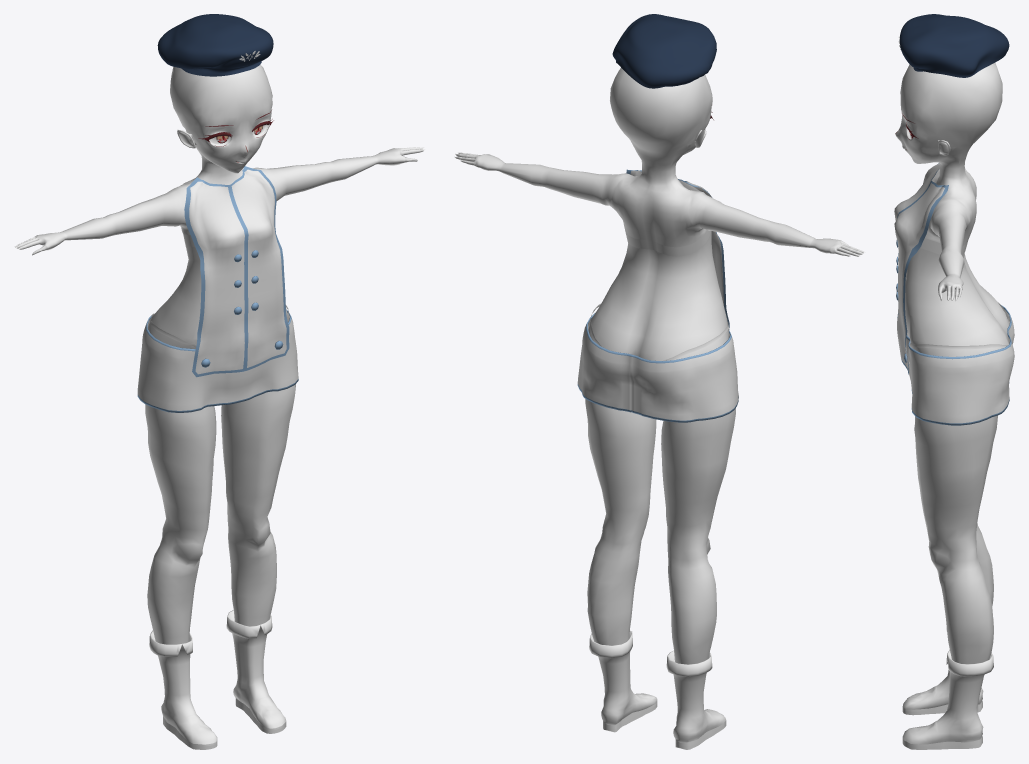
File: Kuro Figure Mixamo try7.fbx
The picture shows the model from 3 angles, left to right: view 1: azimuth 30°, elevation 25°; view 2: azimuth 150°, elevation 25°; view 3: azimuth 270°, elevation 25°; orthographic projection.
Parts seen in each view (by area): view 1: Body; view 2: Body; view 3: Body.
Part boxes in pixels (left/top/right/bottom): Body: left=15, top=14, right=425, bottom=749; Body: left=454, top=14, right=865, bottom=749; Body: left=894, top=14, right=1014, bottom=749.
Size of the model in its own units: 77.46 by 127 by 19.66.
